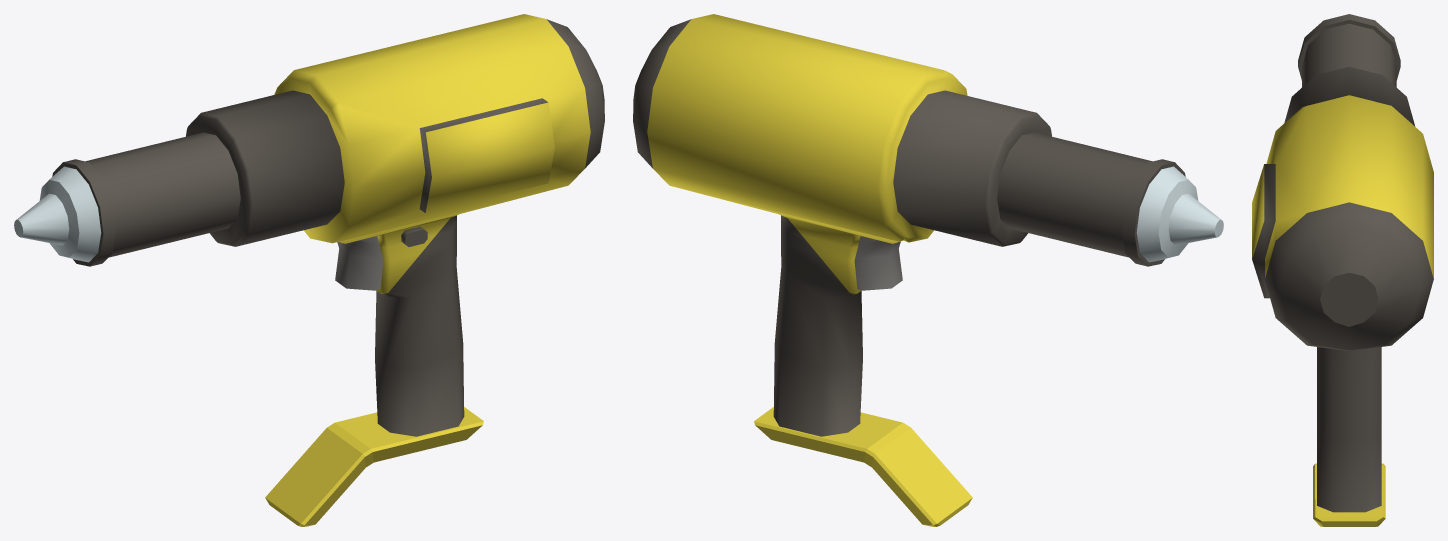
The model's file is SM_Drill.fbx.
3 renders of one model, left to right at view 1: azimuth 30°, elevation 25°; view 2: azimuth 150°, elevation 25°; view 3: azimuth 270°, elevation 25°, orthographic. The views are drawn at different scales.
Parts seen in each view (by area): view 1: SM_Drill, SM_DrillTrigger; view 2: SM_Drill, SM_DrillTrigger; view 3: SM_Drill.
Part boxes in pixels (x1,y1,x2,y2): SM_Drill: (14,14,604,526); SM_DrillTrigger: (335,236,383,290); SM_Drill: (633,14,1223,526); SM_DrillTrigger: (854,236,902,290); SM_Drill: (1252,14,1433,526).
Bounding box in the file's own units: 30.86 × 22.53 × 8.93.
